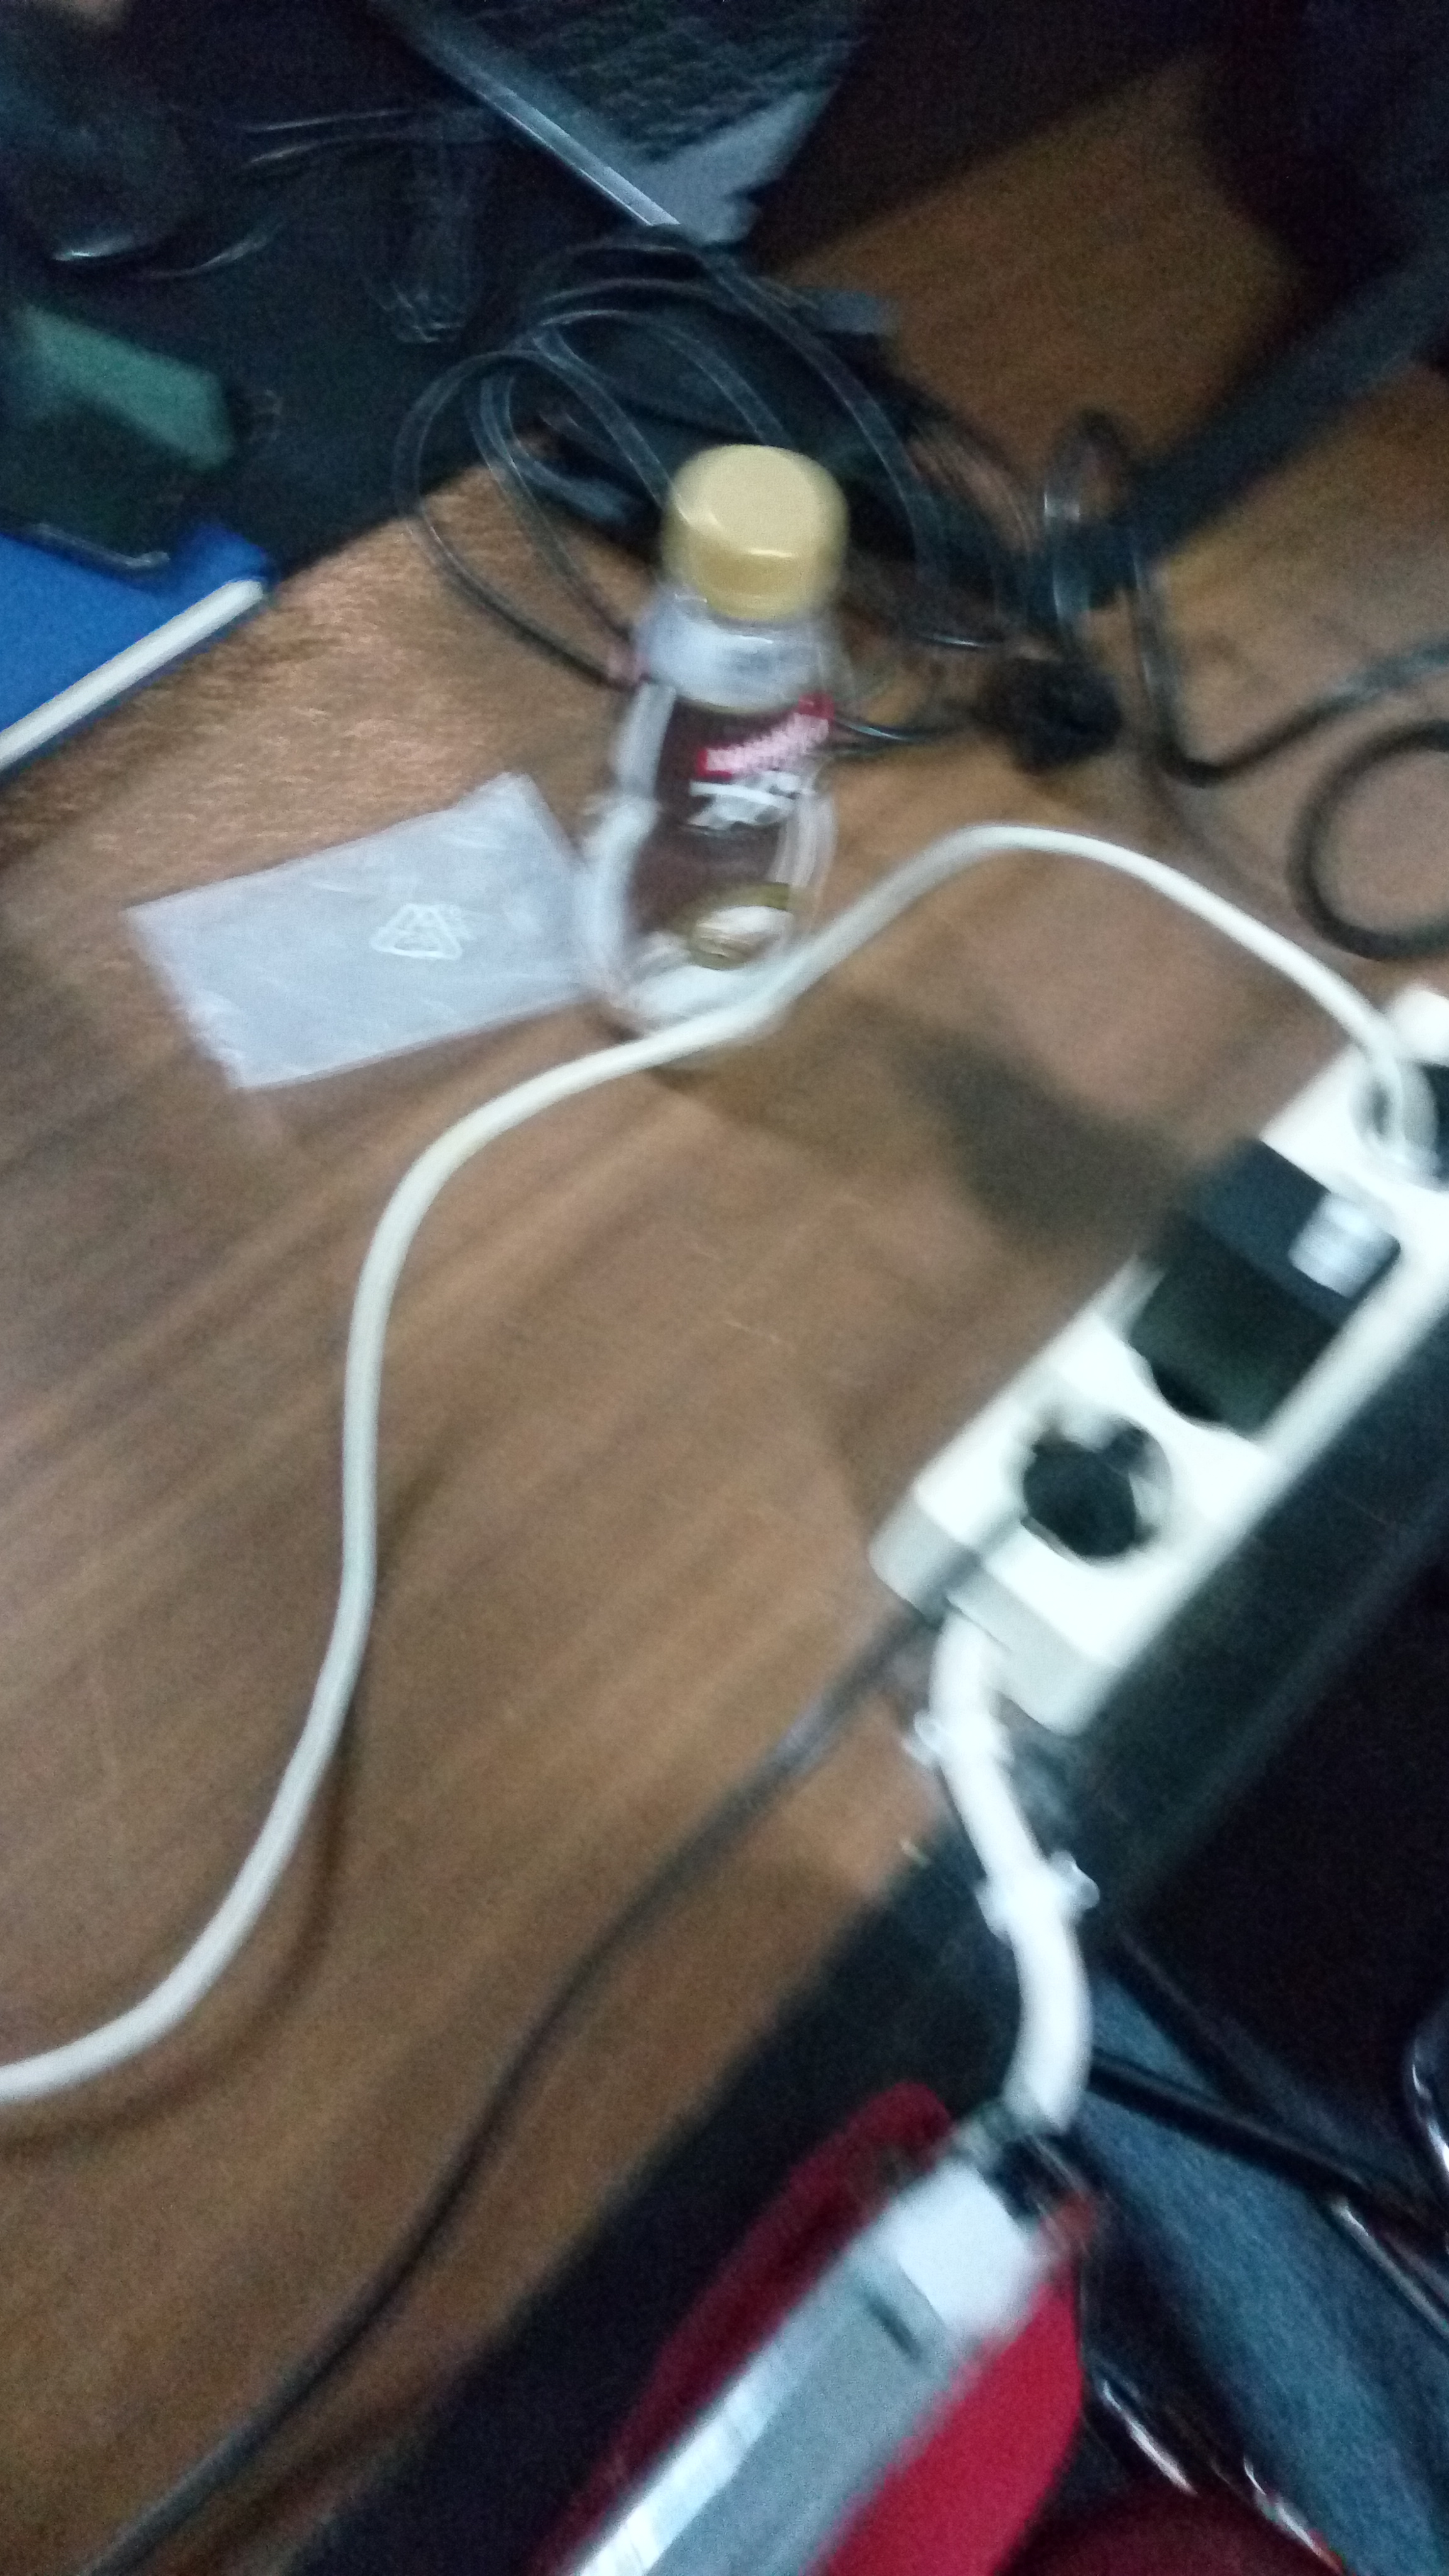botol: (575, 403, 842, 1049), (575, 441, 842, 1049)
